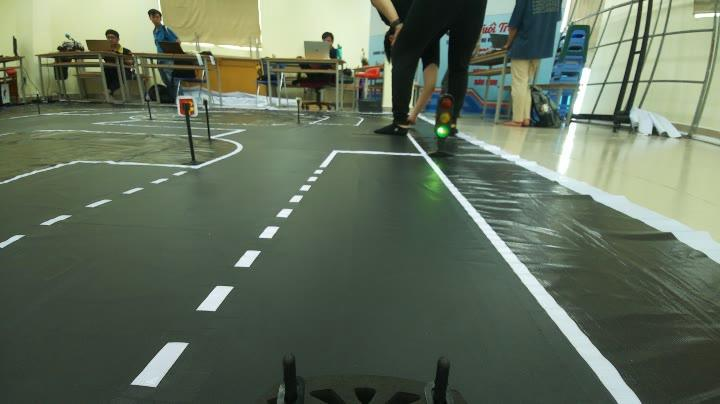trafficlight: (424, 87, 456, 167)
